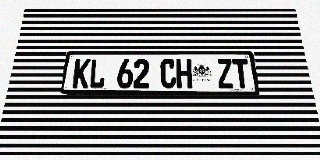2: (133, 59, 149, 88)
6: (117, 59, 134, 88)
C: (160, 59, 176, 88)
H: (176, 59, 192, 88)
K: (72, 59, 91, 88)
L: (88, 59, 106, 88)
T: (232, 59, 251, 88)
Z: (216, 59, 234, 88)
